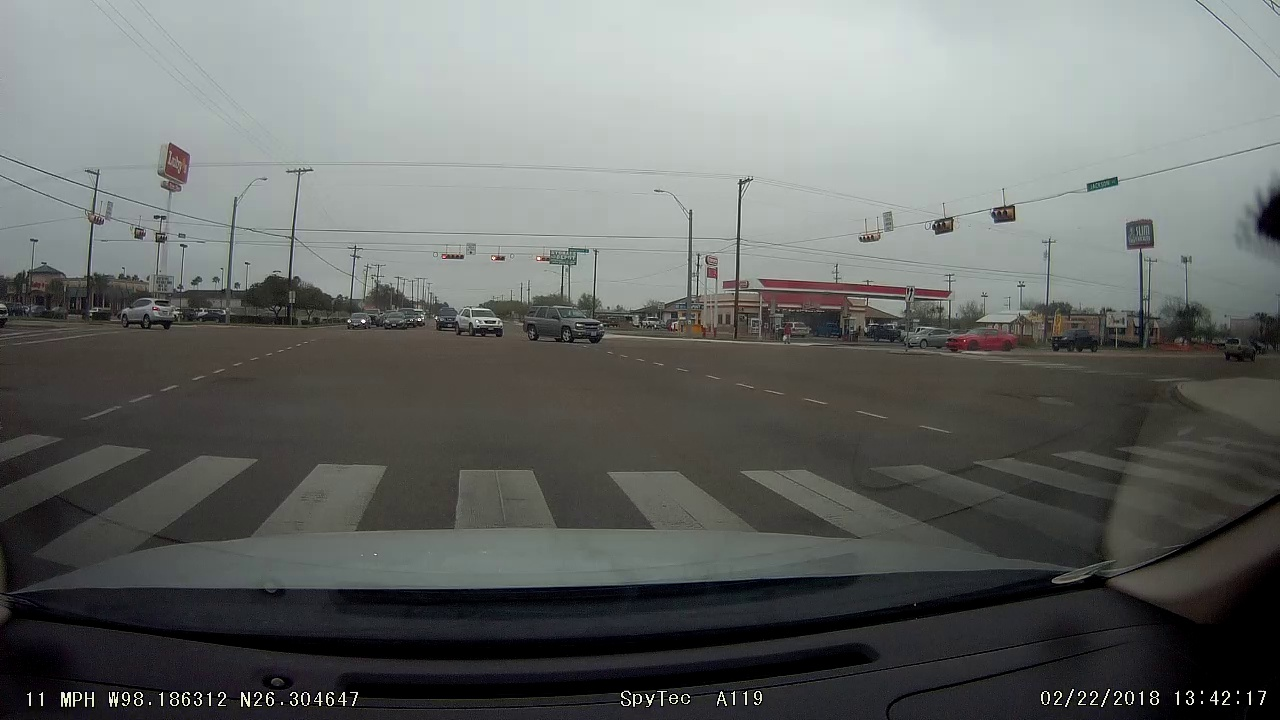pothole: (987, 379, 1084, 413)
